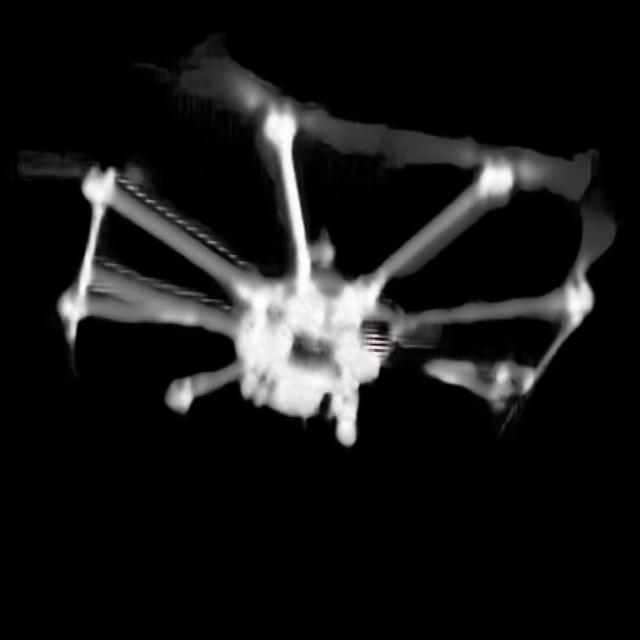drone: (14, 23, 626, 466)
